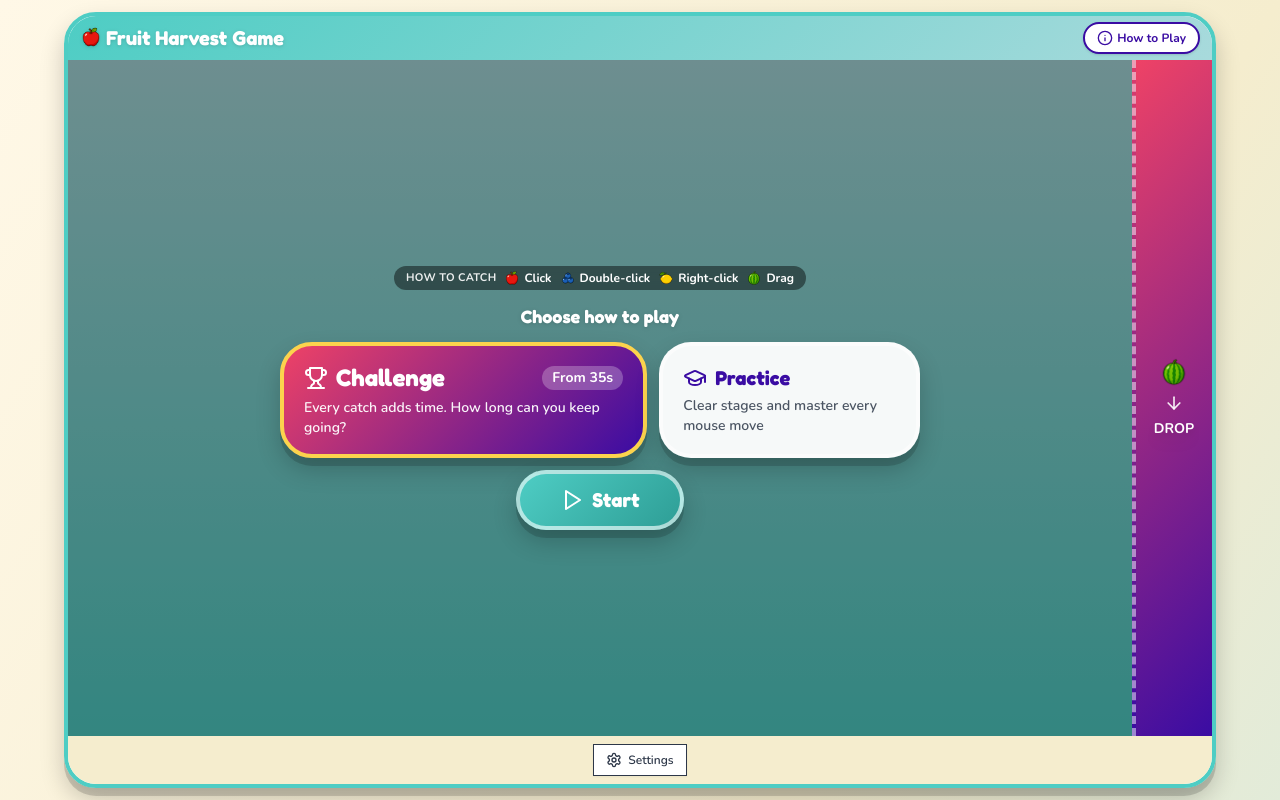
Test: FruitHarvestGame › data persistence › persists high score
Click the button with test id "mode-select-practice" at (790, 400), box top-left (659, 342), bottom-right (920, 458)
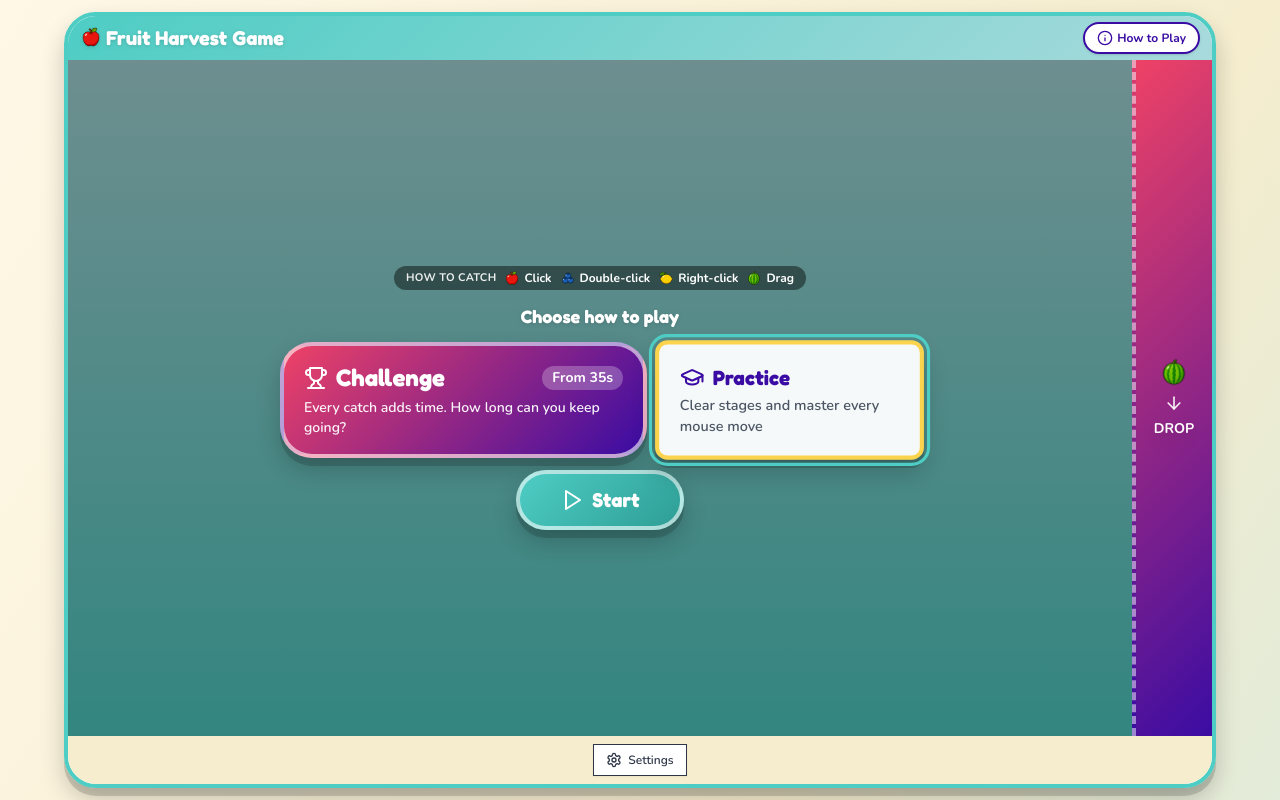
Click the button with test id "mode-start" at (600, 500), box top-left (516, 470), bottom-right (684, 530)
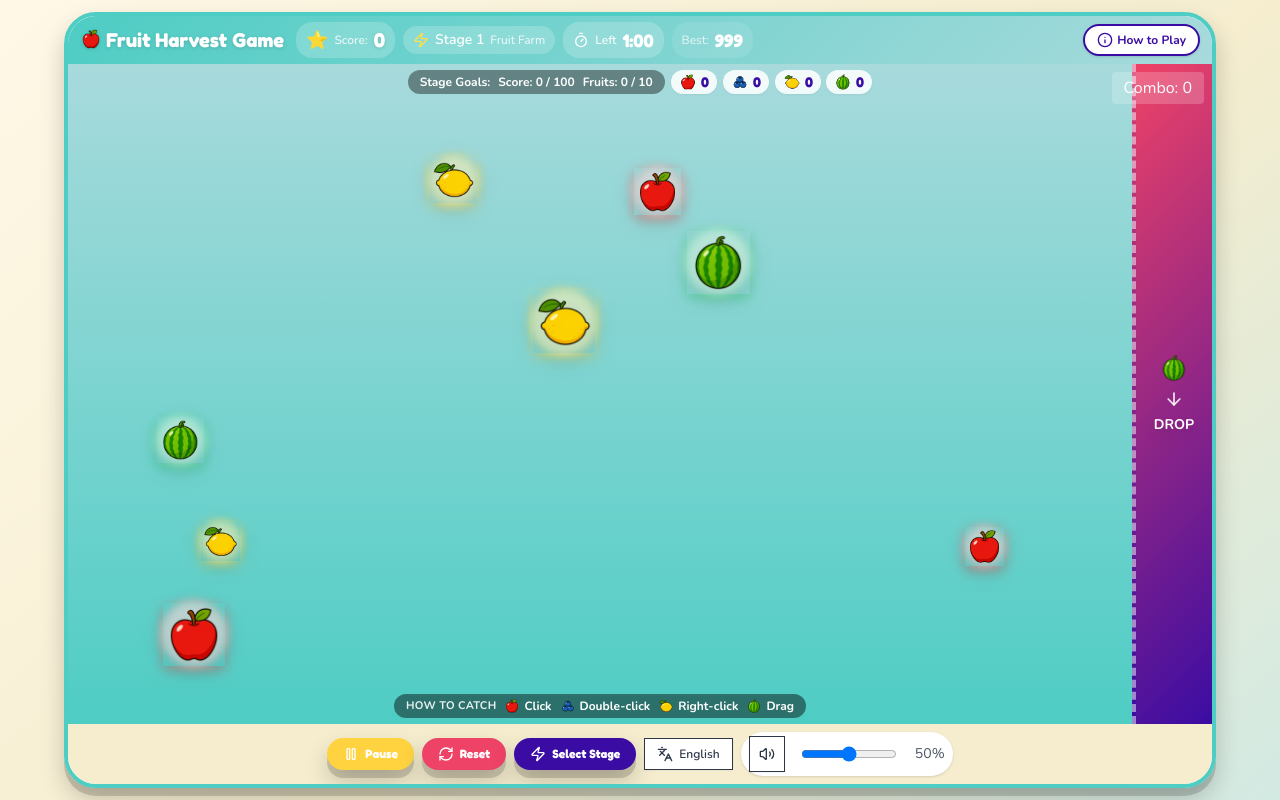
Check: the text "999" is shown, box top-left (715, 26), bottom-right (743, 54)
